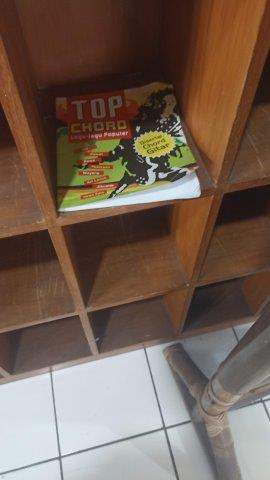kertas: (45, 83, 203, 208)
